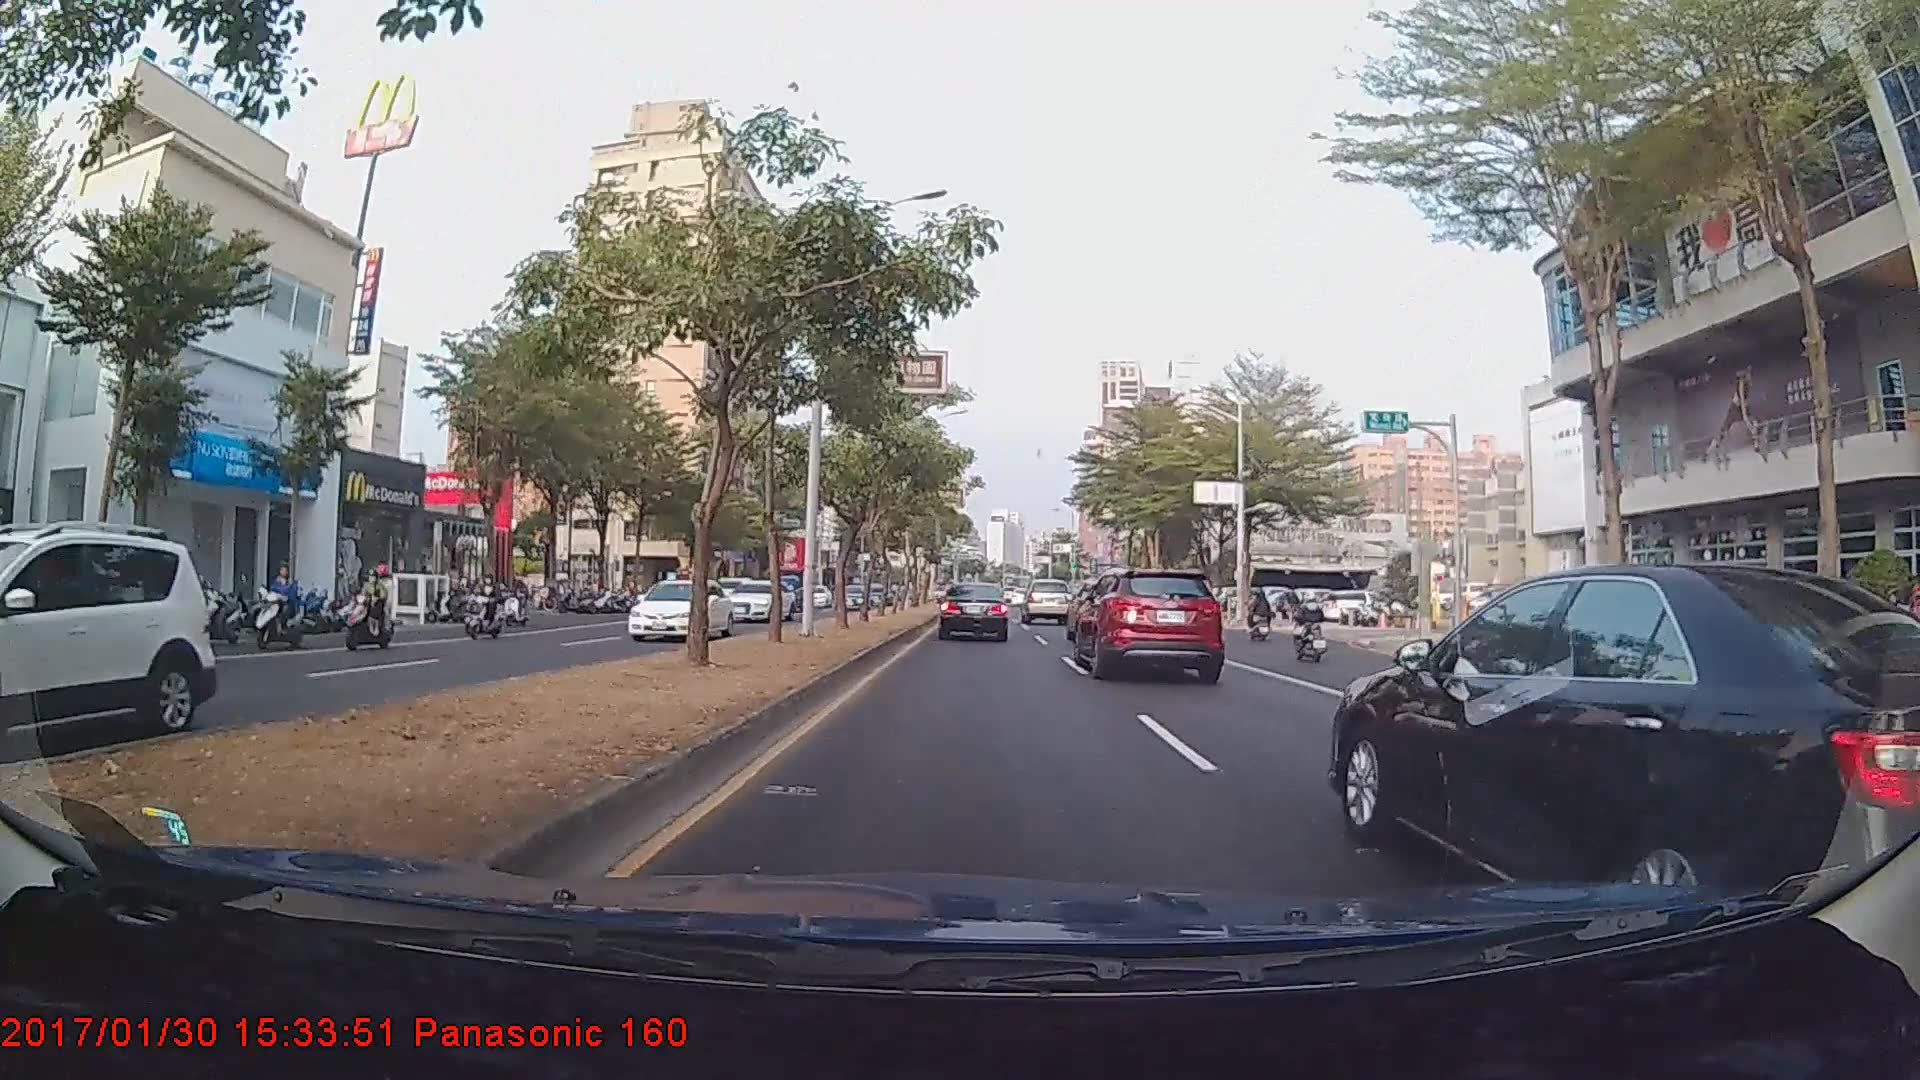rider: (336, 562, 400, 652), (1289, 586, 1333, 668)
vehicle: (1338, 559, 1918, 928), (0, 530, 219, 764), (1070, 569, 1223, 678), (623, 576, 734, 641), (937, 582, 1010, 642), (723, 573, 795, 624), (1021, 578, 1073, 625)
